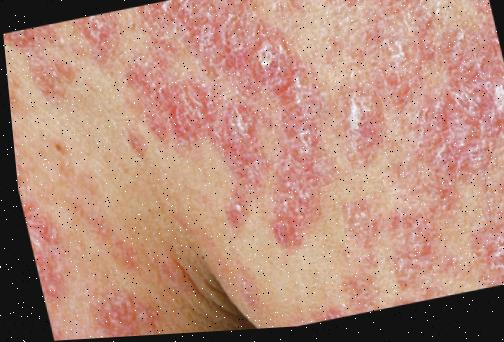plaque psoriasis: (129, 0, 349, 273), (293, 0, 504, 198), (282, 180, 469, 327), (439, 162, 504, 297), (66, 8, 150, 102), (2, 18, 92, 72)
